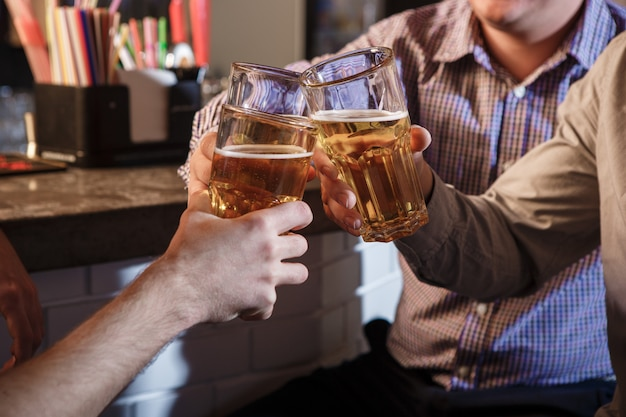alcohol: (295, 47, 432, 242), (202, 101, 318, 322), (222, 56, 315, 224)
